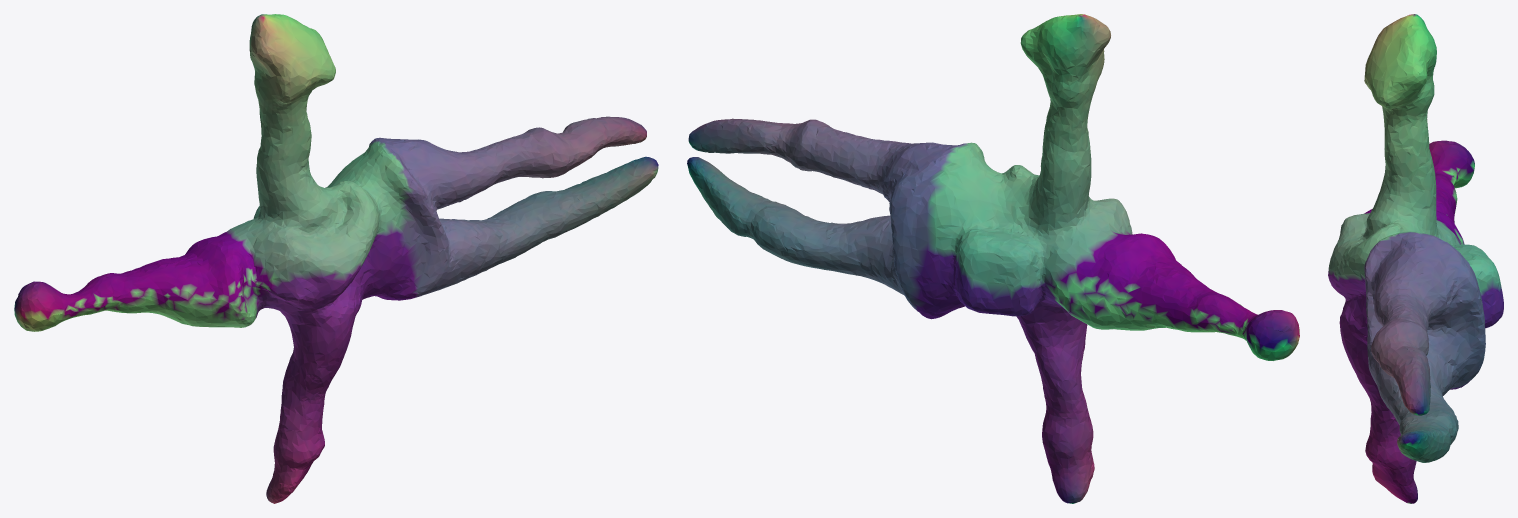
The model's file is santa-12.off.obj.
3 renders of one model, left to right at view 1: azimuth 30°, elevation 25°; view 2: azimuth 150°, elevation 25°; view 3: azimuth 270°, elevation 25°, orthographic.
Bounding box in the file's own units: 1.79 × 1.34 × 0.4439.
